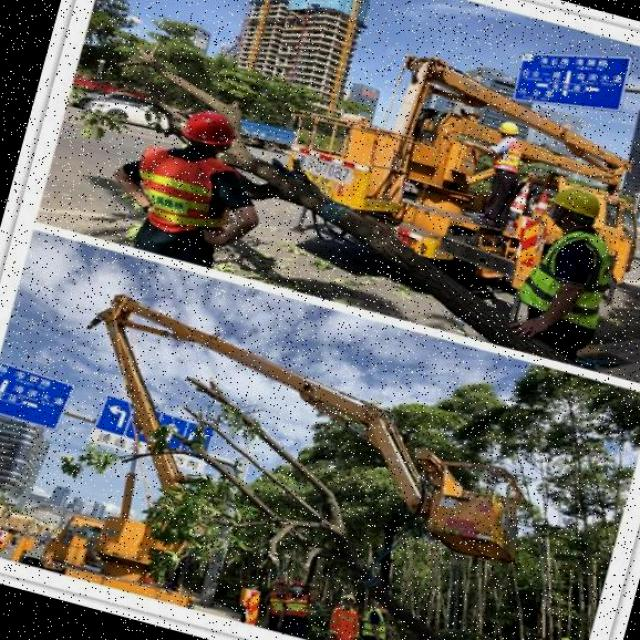fallen_object: (36, 15, 640, 370), (30, 342, 572, 640)
